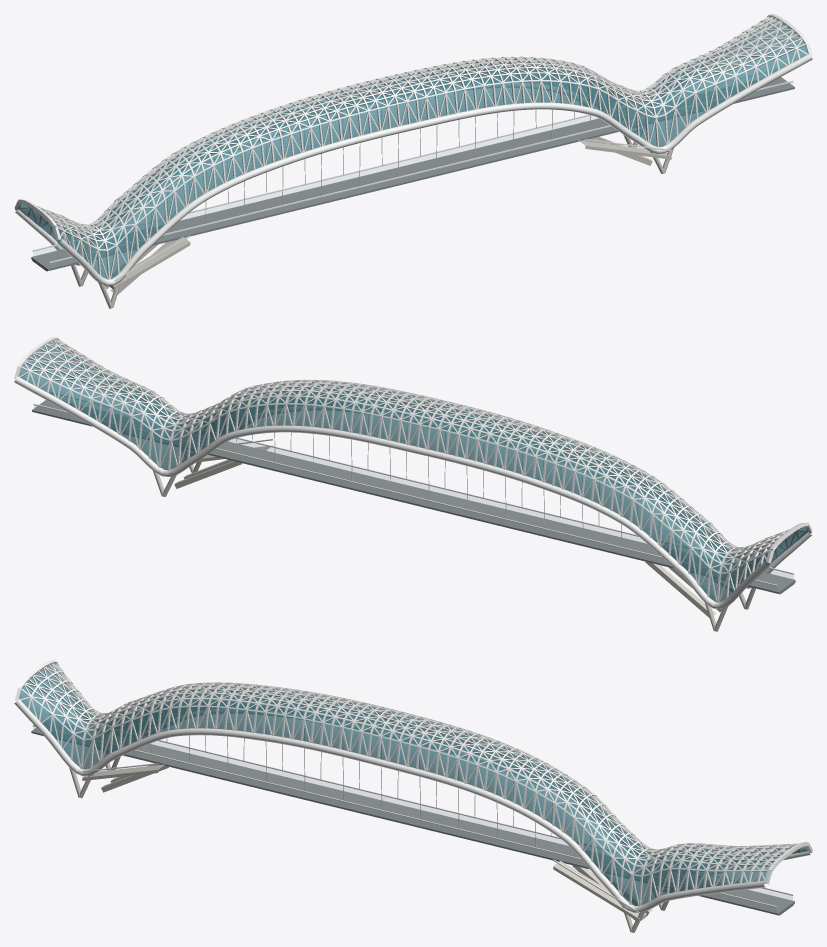
File: tbilisi-bridge-of-peace.detail.glb
3 views of the same model, one above another, from view 1: azimuth 30°, elevation 25°; view 2: azimuth 150°, elevation 25°; view 3: azimuth 330°, elevation 25° (orthographic).
Parts seen in each view (by area): view 1: Bridge of Peace; view 2: Bridge of Peace; view 3: Bridge of Peace.
Boxes of the visible parts, x1,y1,x2,y2 form: Bridge of Peace: (14,14,812,308); Bridge of Peace: (14,337,812,631); Bridge of Peace: (14,660,812,932).
Size of the model in its own units: 149 by 27.3 by 16.45.
